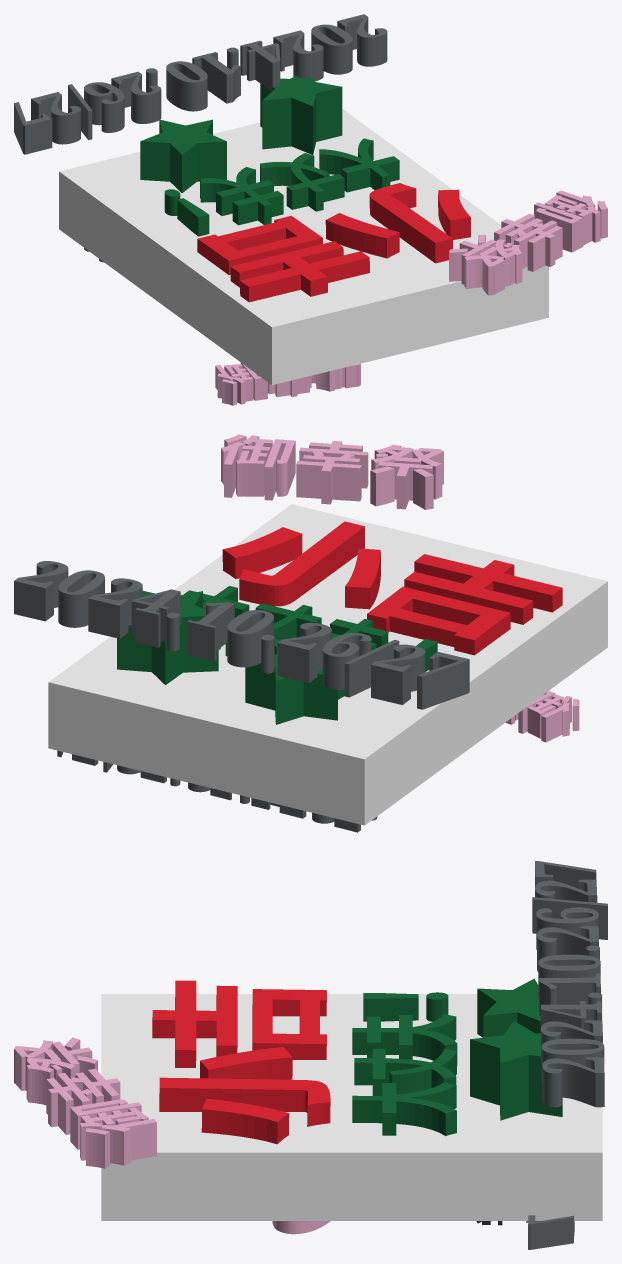
The model's file is tinker.obj.
The picture shows the model from 3 angles, top to bottom: view 1: azimuth 30°, elevation 25°; view 2: azimuth 150°, elevation 25°; view 3: azimuth 270°, elevation 25°; orthographic projection. The views are drawn at different scales.
Visible parts, largest first — view 1: group_0_16448250, group_0_1206582, group_0_6383466, group_0_15277357, group_0_15708628; view 2: group_0_16448250, group_0_6383466, group_0_15277357, group_0_15708628, group_0_1206582; view 3: group_0_16448250, group_0_1206582, group_0_15277357, group_0_6383466, group_0_15708628.
Part boxes in pixels (box(x1,y1,x2,y2)): group_0_16448250: box(59, 109, 548, 385); group_0_1206582: box(140, 76, 399, 236); group_0_6383466: box(14, 14, 387, 262); group_0_15277357: box(197, 183, 470, 302); group_0_15708628: box(215, 190, 607, 405); group_0_16448250: box(48, 504, 607, 825); group_0_6383466: box(14, 561, 469, 832); group_0_15277357: box(222, 521, 562, 655); group_0_15708628: box(221, 434, 579, 742); group_0_1206582: box(117, 586, 437, 724); group_0_16448250: box(101, 994, 602, 1220); group_0_1206582: box(352, 978, 562, 1136); group_0_15277357: box(152, 980, 330, 1144); group_0_6383466: box(526, 861, 607, 1249); group_0_15708628: box(14, 1037, 330, 1234).
Size of the model in its own units: 16.16 by 7.08 by 17.78.
